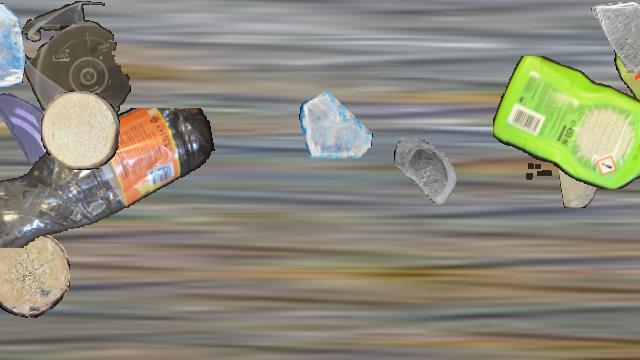glass: (0, 89, 69, 173), (393, 137, 469, 213), (299, 88, 373, 162), (591, 1, 640, 73), (0, 1, 26, 93)
plastic: (0, 108, 217, 248), (493, 56, 640, 188), (20, 1, 132, 133), (613, 1, 640, 139)
wood: (41, 91, 119, 169), (0, 232, 70, 318), (559, 134, 597, 208)
